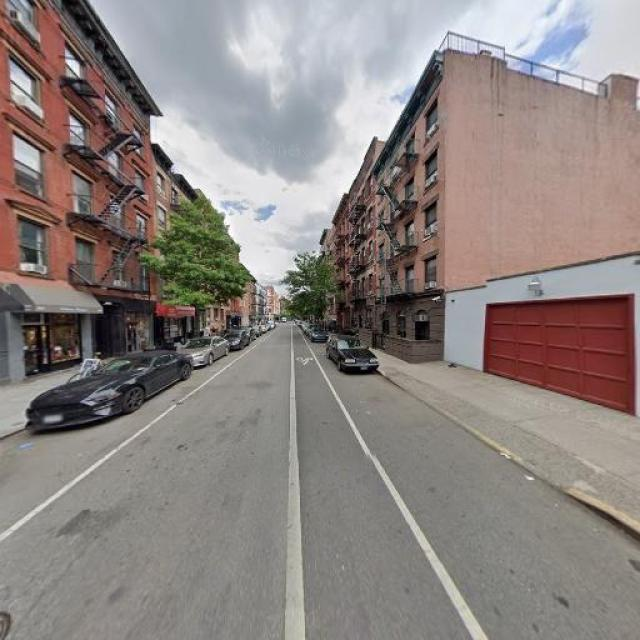Building: (9, 1, 153, 379), (445, 258, 640, 417), (379, 54, 442, 362), (349, 140, 377, 344)
